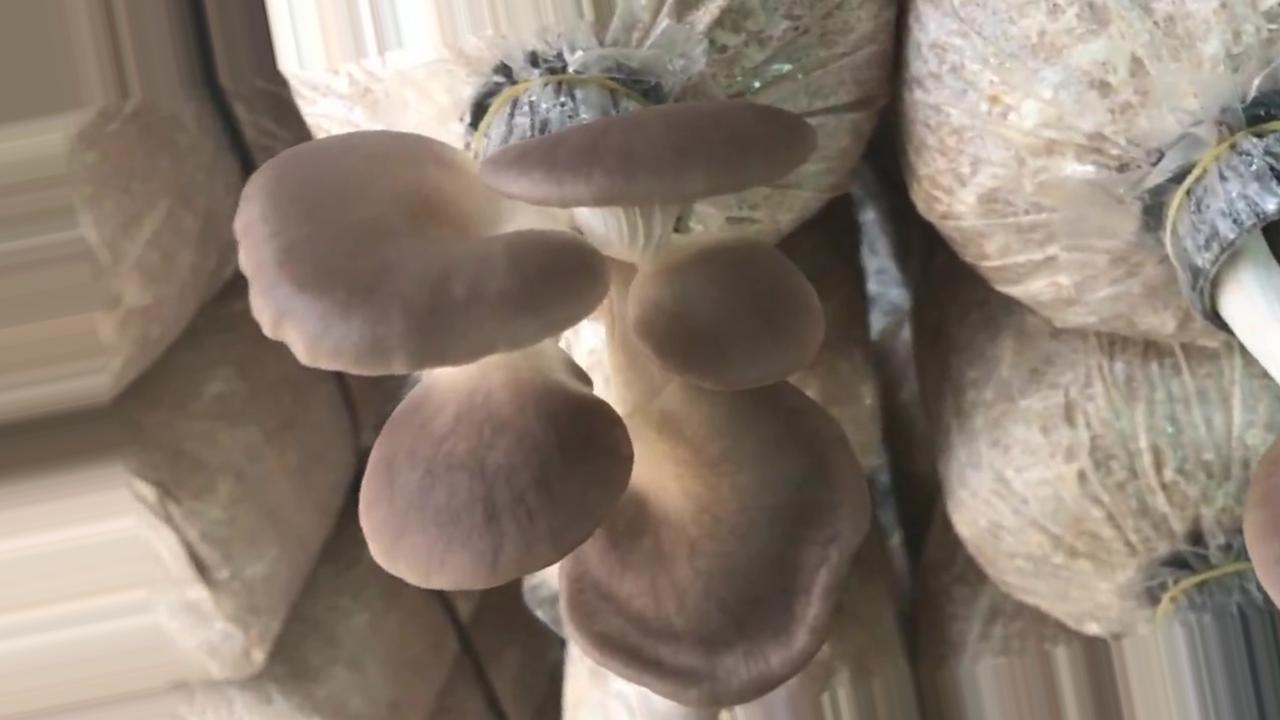nam: (243, 67, 872, 706), (1168, 112, 1280, 603)
